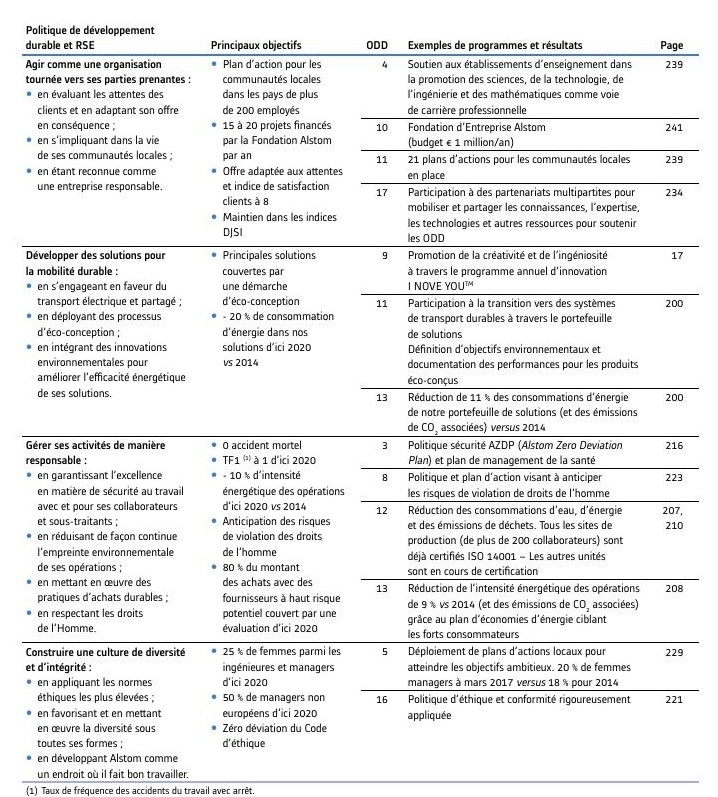table: (0, 0, 718, 797)
